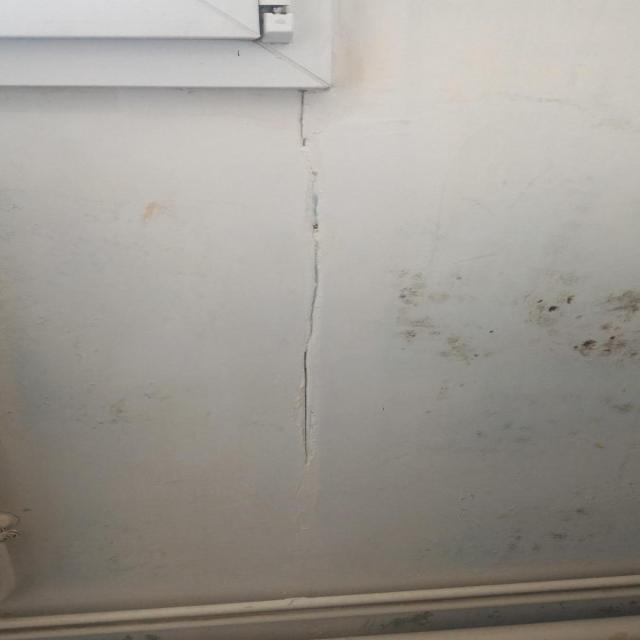crack: (292, 88, 328, 464)
